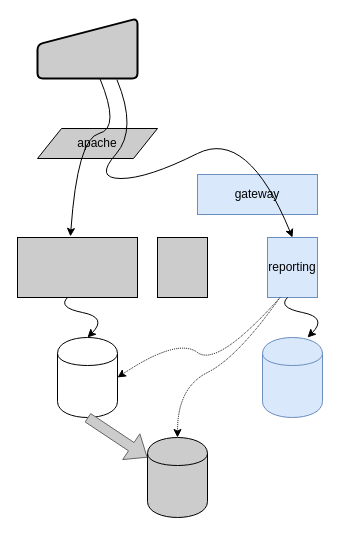
The diagram is 340 pixels wide and 535 high, and some of its shapes have lost their labels. The shapes that lost their labels are listed below. From the top down, each one's centre as x and y in pixels, then its label:
At point (77, 267): "bixxi".
At point (182, 267): "bixxi2".
